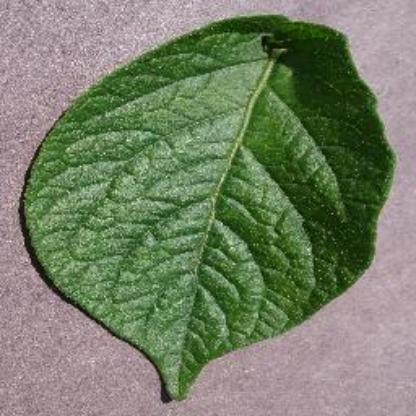Healthy-plant: (22, 11, 402, 406)
